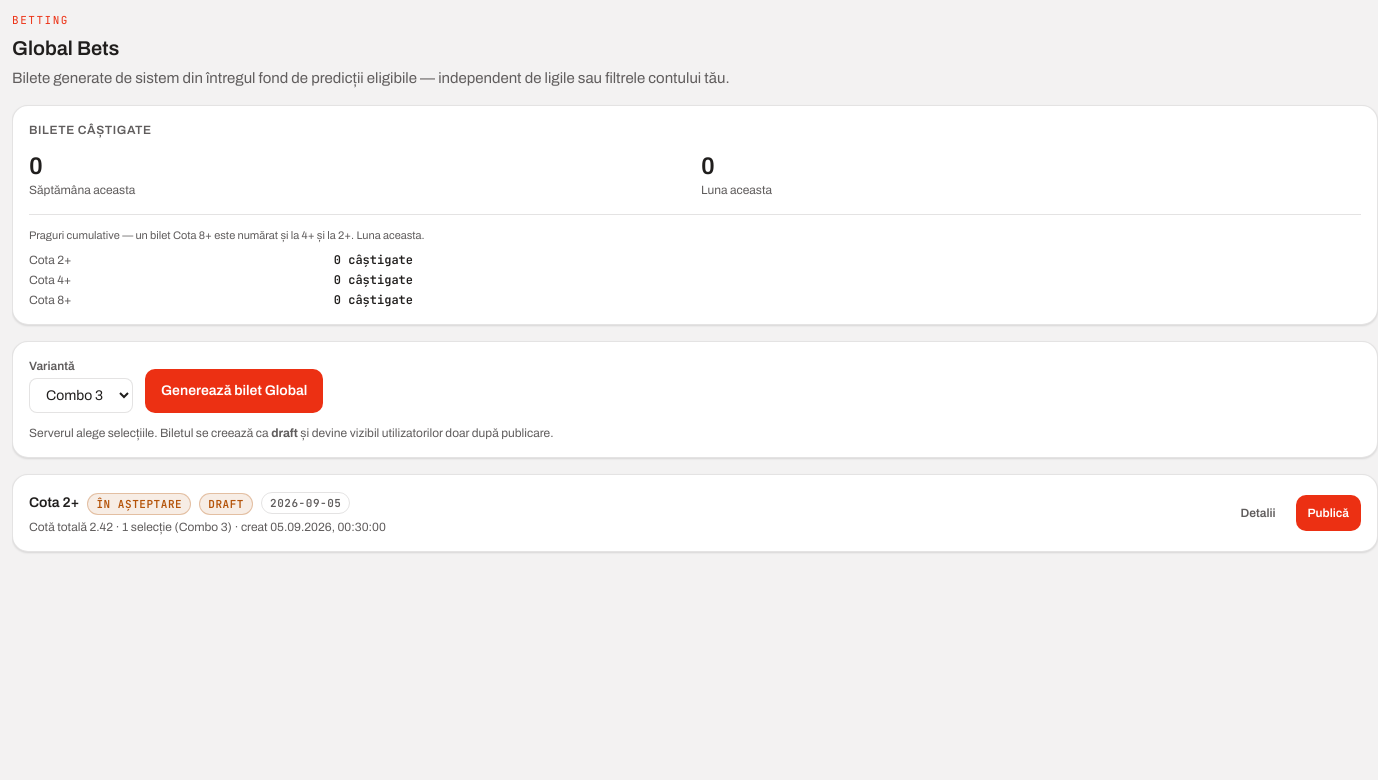
Scenario: selection status › says nothing rather than inventing a result for a leg with no status
Click the button "Detalii" at (1258, 513), box top-left (1229, 495), bottom-right (1288, 531)
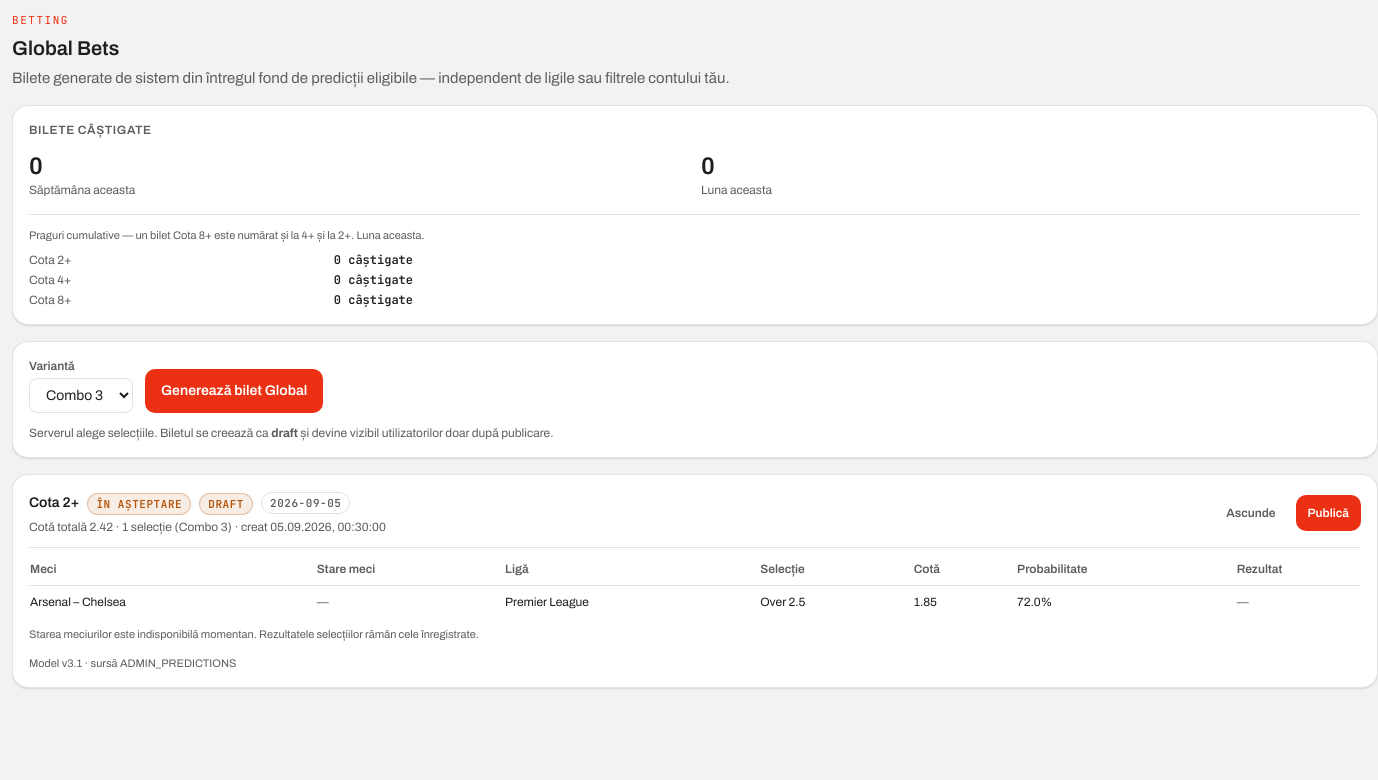
Now the text with test id "selection-settlement-unknown" is shown, box top-left (1237, 595), bottom-right (1249, 609)
